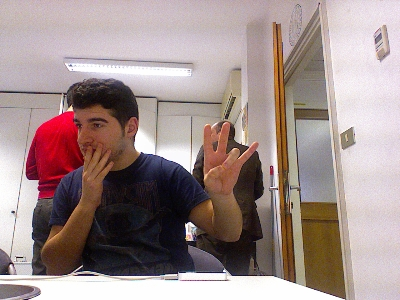观音: (202, 121, 259, 196)
